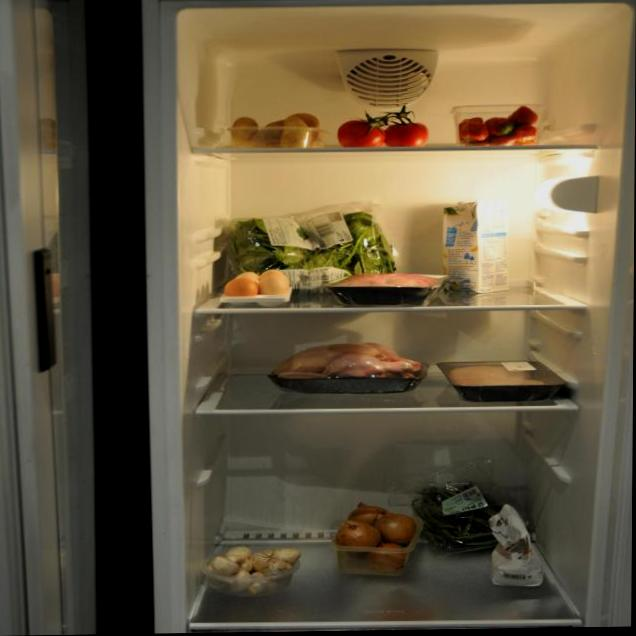chicken: (265, 340, 425, 396)
chicken_breast: (447, 363, 553, 396)
eggs: (221, 267, 287, 302)
flour: (483, 500, 546, 587)
green_beans: (406, 480, 532, 557)
ground_beef: (356, 271, 474, 306)
milk: (442, 197, 513, 294)
mushrooms: (203, 544, 299, 594)
onion: (330, 500, 414, 575)
potato: (233, 112, 322, 150)
spinach: (219, 207, 399, 295)
strawberries: (455, 106, 539, 149)
tomato: (333, 106, 432, 150)
